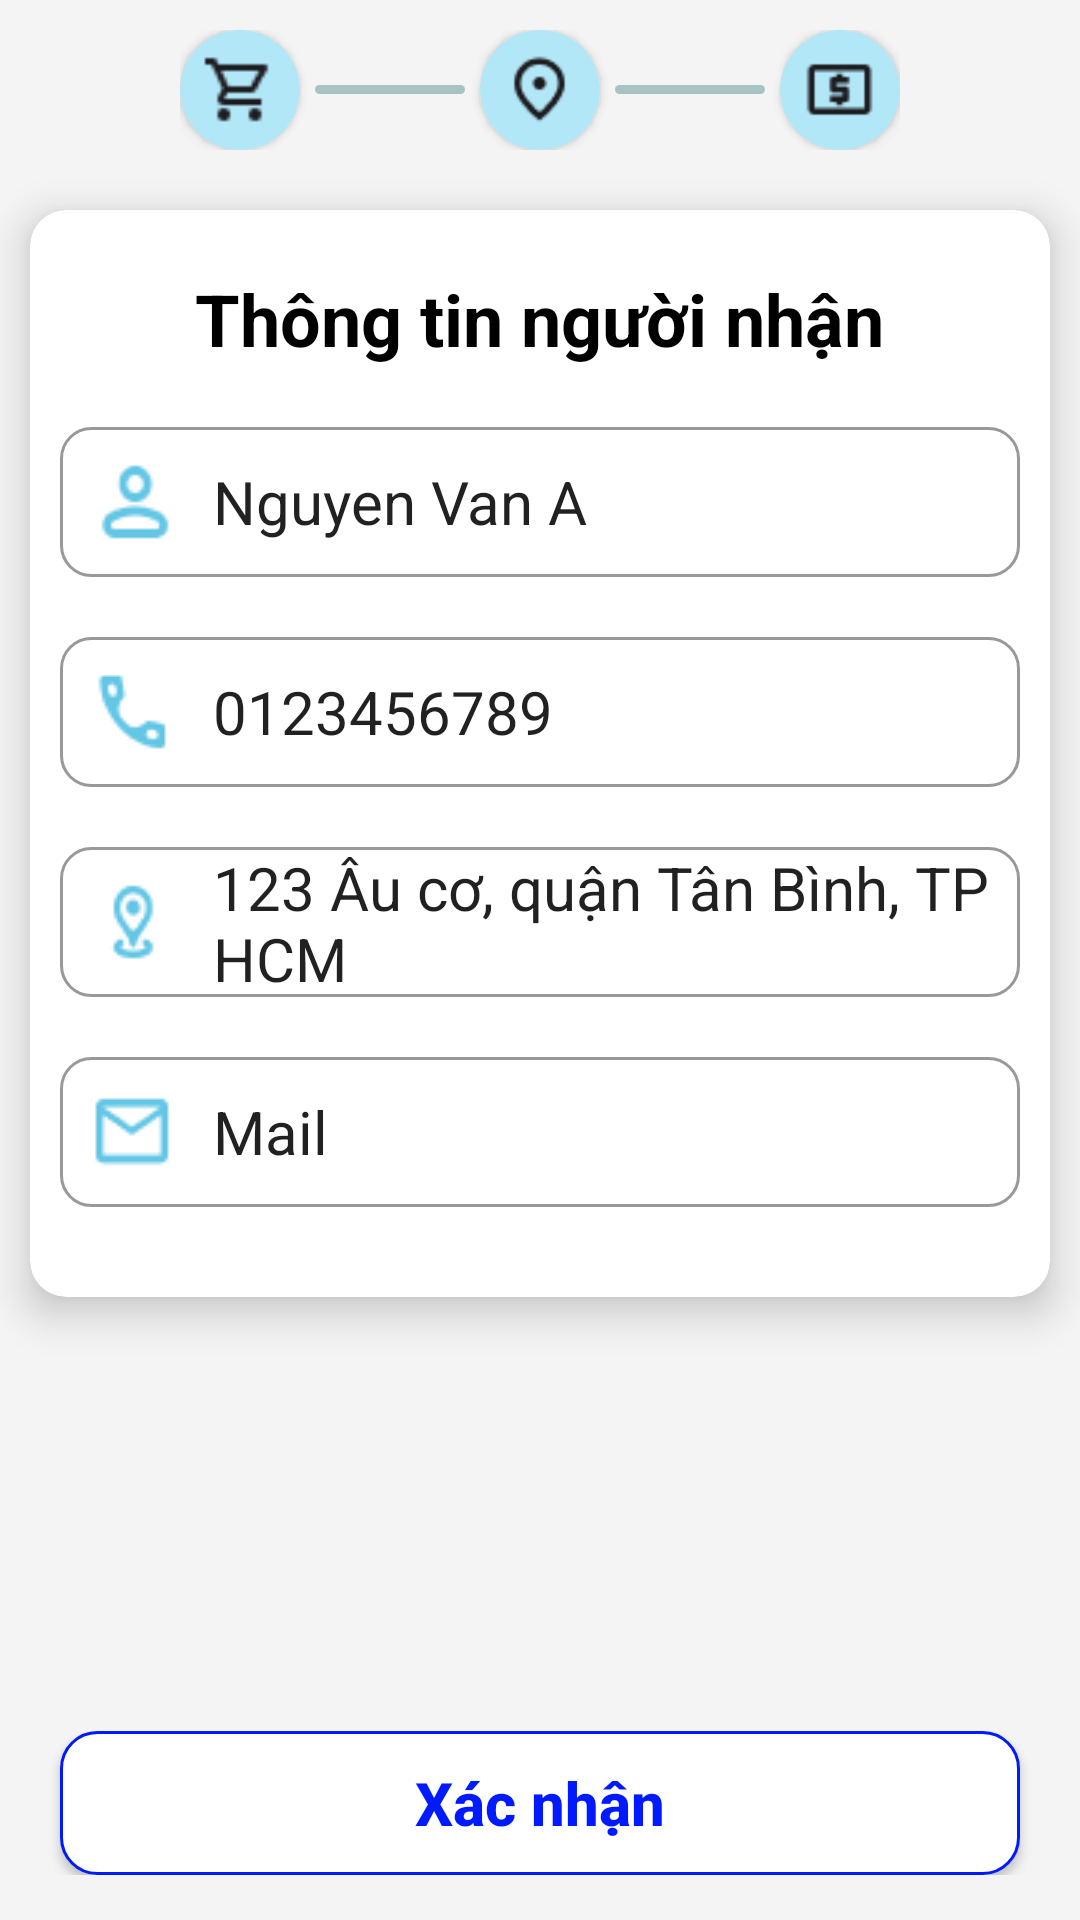

Icon bounding boxes for this 1080px x 1920px phone screenshot, format (x1, y1, x2, y2):
cart: (204, 57, 269, 122)
payment: (806, 64, 873, 115)
